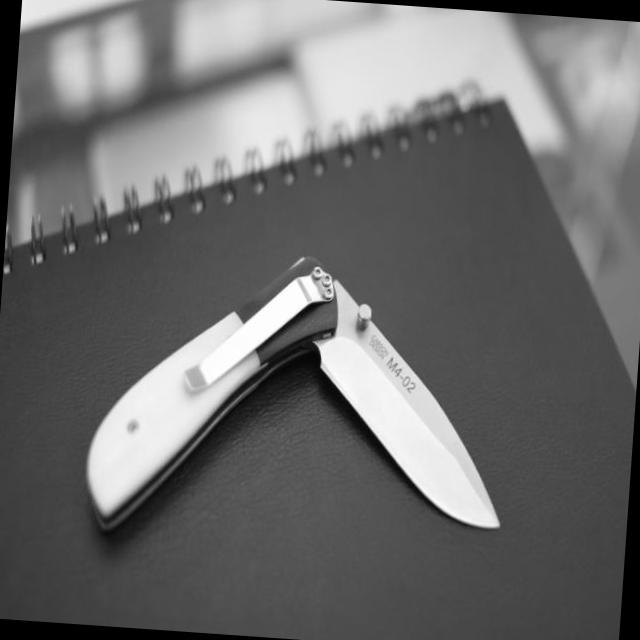Knife: (86, 256, 499, 529)
